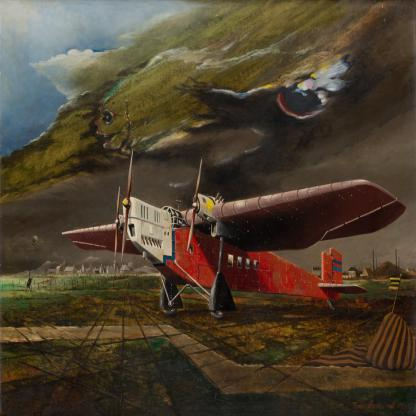CIV_Plane: (50, 168, 411, 330)
